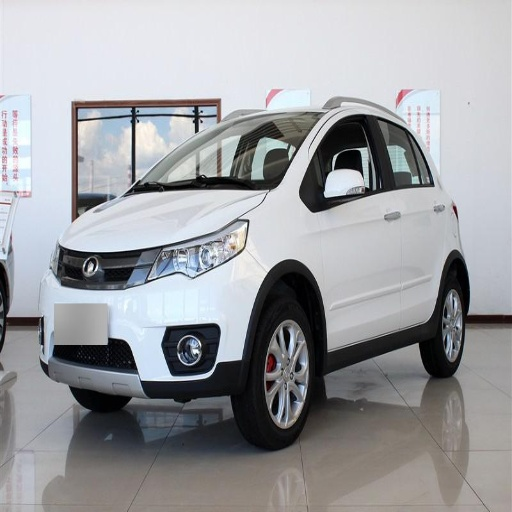front_bumper: (38, 246, 265, 400)
front_glass: (127, 116, 318, 195)
front_left_door: (305, 111, 401, 342)
